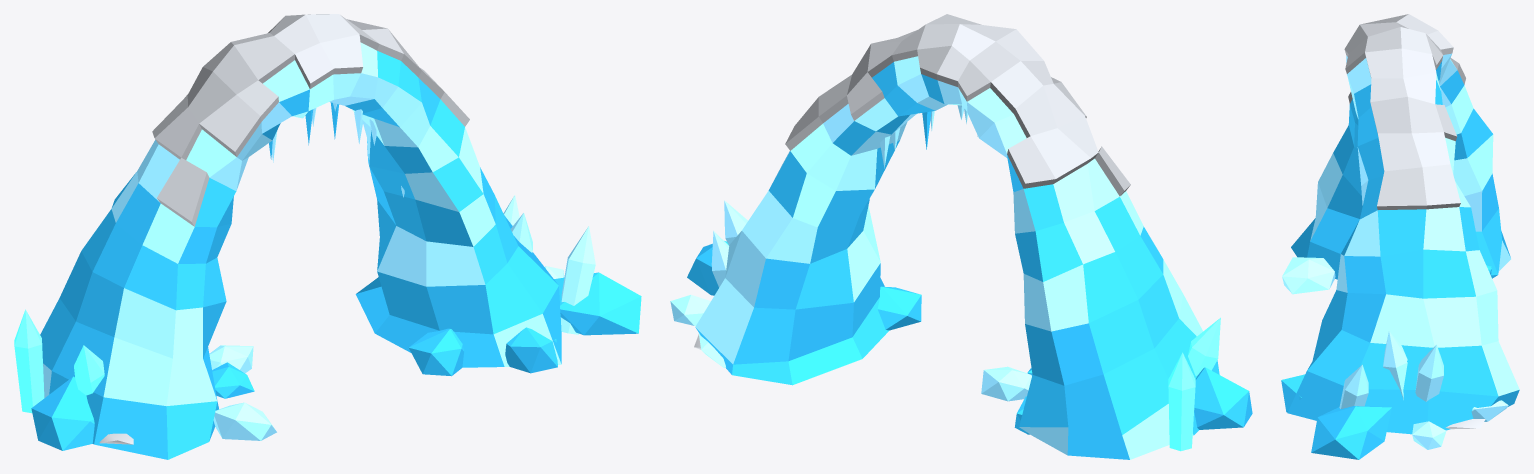
File: ice_arch.glb
The picture shows the model from 3 angles, left to right: view 1: azimuth 30°, elevation 25°; view 2: azimuth 150°, elevation 25°; view 3: azimuth 270°, elevation 25°; orthographic projection. The views are drawn at different scales.
Visible parts, largest first — view 1: ice_arch; view 2: ice_arch; view 3: ice_arch.
Part boxes in pixels (x1,y1,x2,y2): ice_arch: [14, 14, 641, 459]; ice_arch: [670, 14, 1252, 459]; ice_arch: [1281, 14, 1519, 459].
Size of the model in its own units: 10.93 by 6.41 by 4.46.
